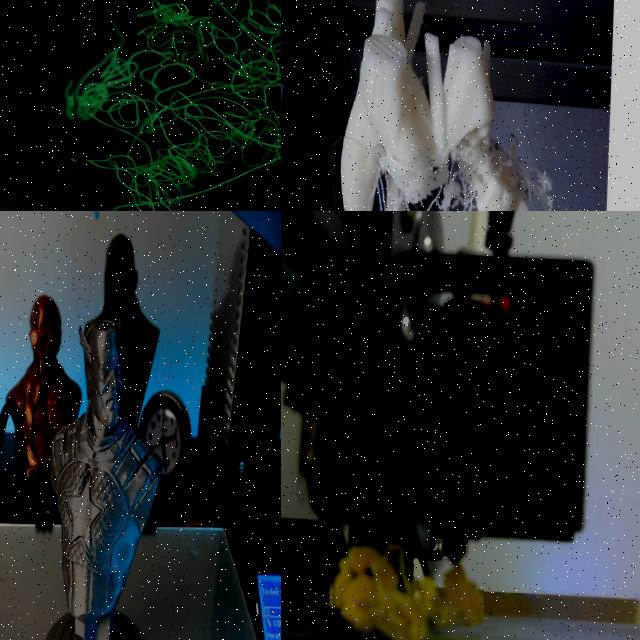spaghetti: (70, 0, 281, 211), (332, 542, 483, 640), (496, 126, 568, 211), (442, 128, 502, 204), (364, 131, 397, 211)
